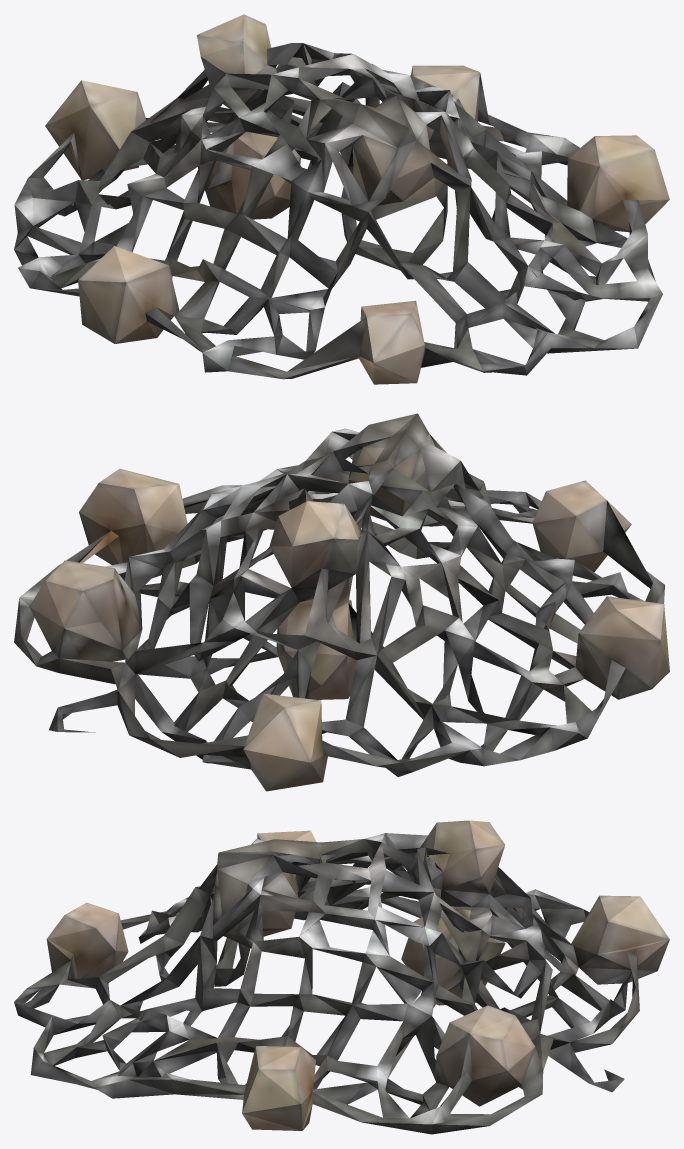
The model's file is net_heap.glb.
3 renders of one model, top to bottom at view 1: azimuth 30°, elevation 25°; view 2: azimuth 150°, elevation 25°; view 3: azimuth 270°, elevation 25°, orthographic. The views are drawn at different scales.
Parts seen in each view (by area): view 1: tripo_node_19f0770a-84b9-44fd-b2d5-868d845187fd.001; view 2: tripo_node_19f0770a-84b9-44fd-b2d5-868d845187fd.001; view 3: tripo_node_19f0770a-84b9-44fd-b2d5-868d845187fd.001.
Boxes of the visible parts, x1,y1,x2,y2 form: tripo_node_19f0770a-84b9-44fd-b2d5-868d845187fd.001: (14, 14, 669, 384); tripo_node_19f0770a-84b9-44fd-b2d5-868d845187fd.001: (14, 413, 669, 791); tripo_node_19f0770a-84b9-44fd-b2d5-868d845187fd.001: (14, 820, 669, 1134).
Bounding box in the file's own units: 0.9258 × 0.3253 × 1.
Materials: 1 (1 with a texture image).
